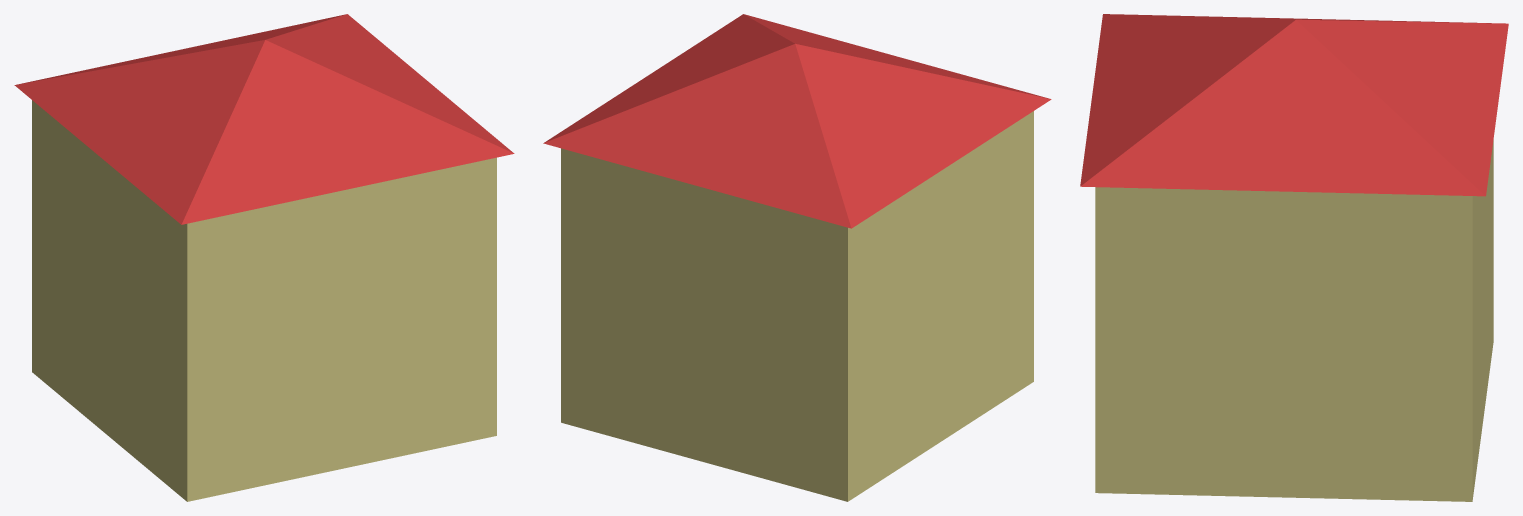
3 views of the same model, side by side, from view 1: azimuth 30°, elevation 25°; view 2: azimuth 150°, elevation 25°; view 3: azimuth 270°, elevation 25° (orthographic). The views are drawn at different scales.
Visible parts, largest first — view 1: group_5, group_3; view 2: group_5, group_3; view 3: group_5, group_3.
Part boxes in pixels (box(x1,y1,x2,y2)): group_5: box(32, 100, 496, 501); group_3: box(14, 14, 514, 224); group_5: box(561, 111, 1033, 501); group_3: box(543, 14, 1051, 228); group_5: box(1095, 140, 1493, 501); group_3: box(1080, 14, 1508, 196).
Bounding box in the file's own units: 15.02 × 14.93 × 15.3.
